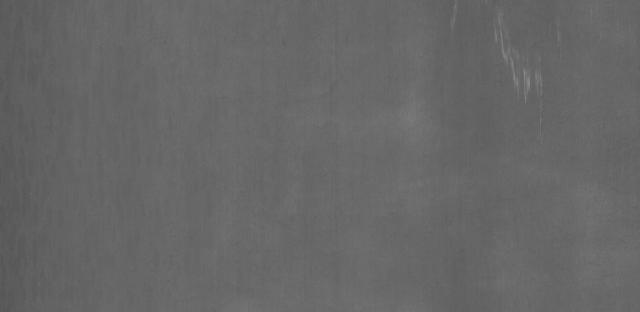silk_spot: (449, 1, 592, 114)
